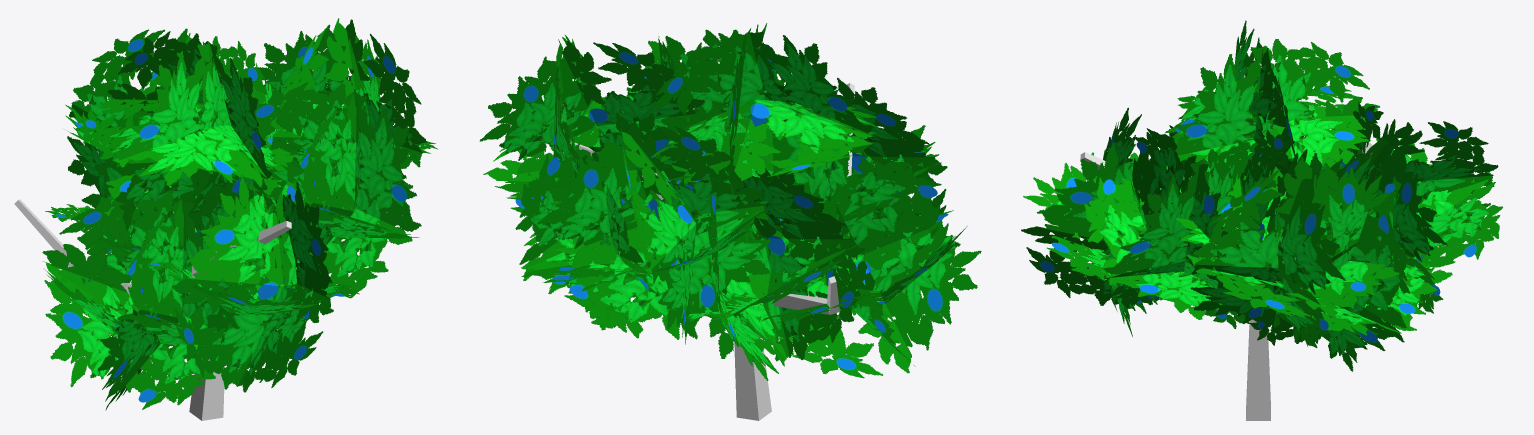
File: Bush3.fbx
3 renders of one model, left to right at view 1: azimuth 30°, elevation 25°; view 2: azimuth 150°, elevation 25°; view 3: azimuth 270°, elevation 25°, orthographic. The views are drawn at different scales.
Parts seen in each view (by area): view 1: Plane.016, Plane.004; view 2: Plane.016, Plane.004; view 3: Plane.016, Plane.004.
Part boxes in pixels (box(x1,y1,x2,y2)): Plane.016: box(42, 18, 437, 410); Plane.004: box(14, 143, 291, 420); Plane.016: box(479, 23, 981, 380); Plane.004: box(569, 83, 854, 420); Plane.016: box(1021, 20, 1502, 371); Plane.004: box(1080, 142, 1372, 420).
Bounding box in the file's own units: 212 × 181 × 216.
